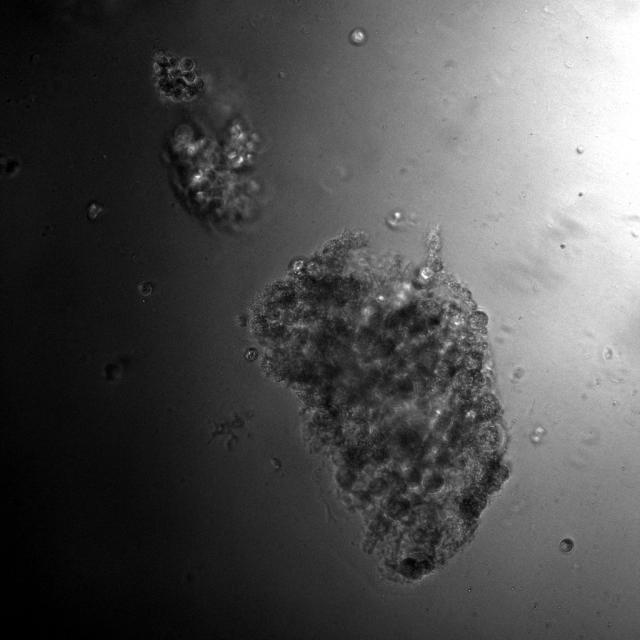organoid: (250, 230, 508, 581), (164, 116, 262, 230), (152, 53, 203, 101), (349, 27, 368, 46), (86, 201, 104, 220), (104, 362, 121, 379), (559, 537, 574, 554), (243, 346, 258, 362), (138, 281, 153, 296), (235, 314, 247, 327), (271, 457, 281, 469)
